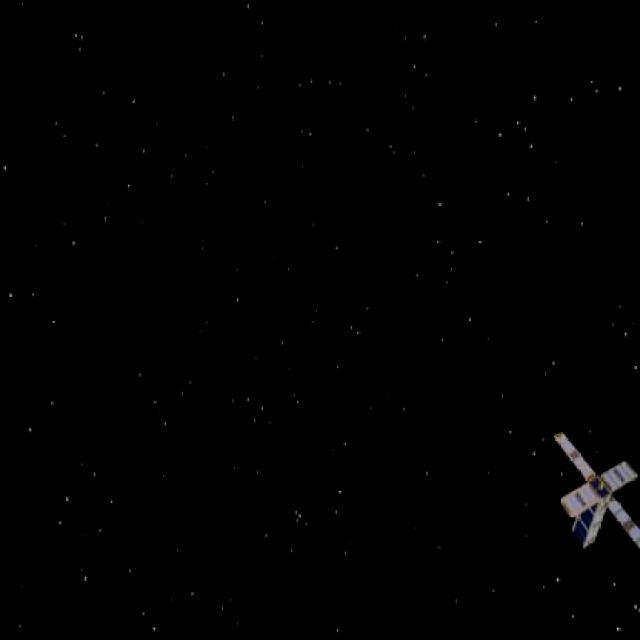medium_debris: (551, 430, 640, 564)
